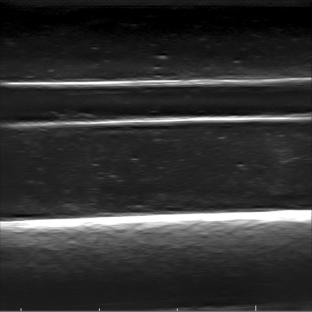vessel: (3, 77, 309, 126)
